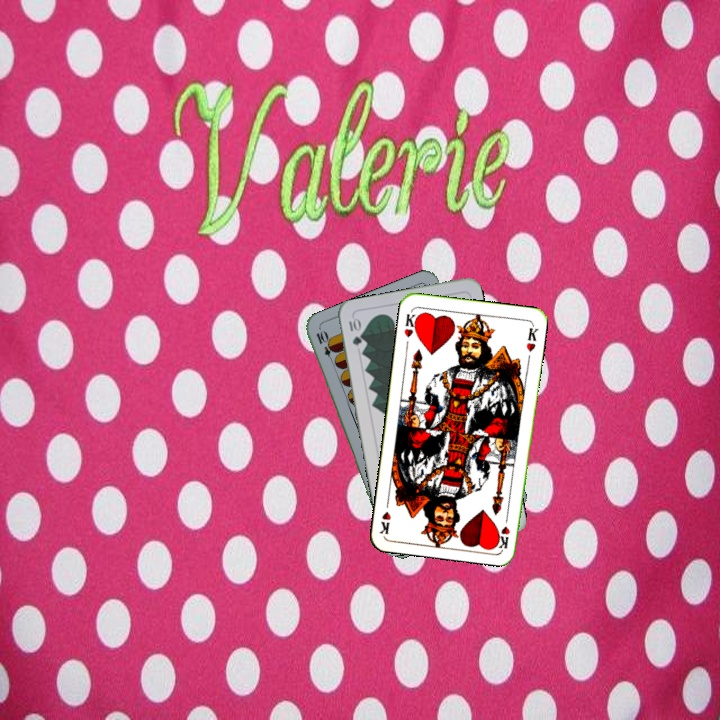E10: (312, 327, 338, 366)
G10: (345, 314, 364, 348)
HK: (494, 509, 512, 550), (400, 307, 421, 340)
